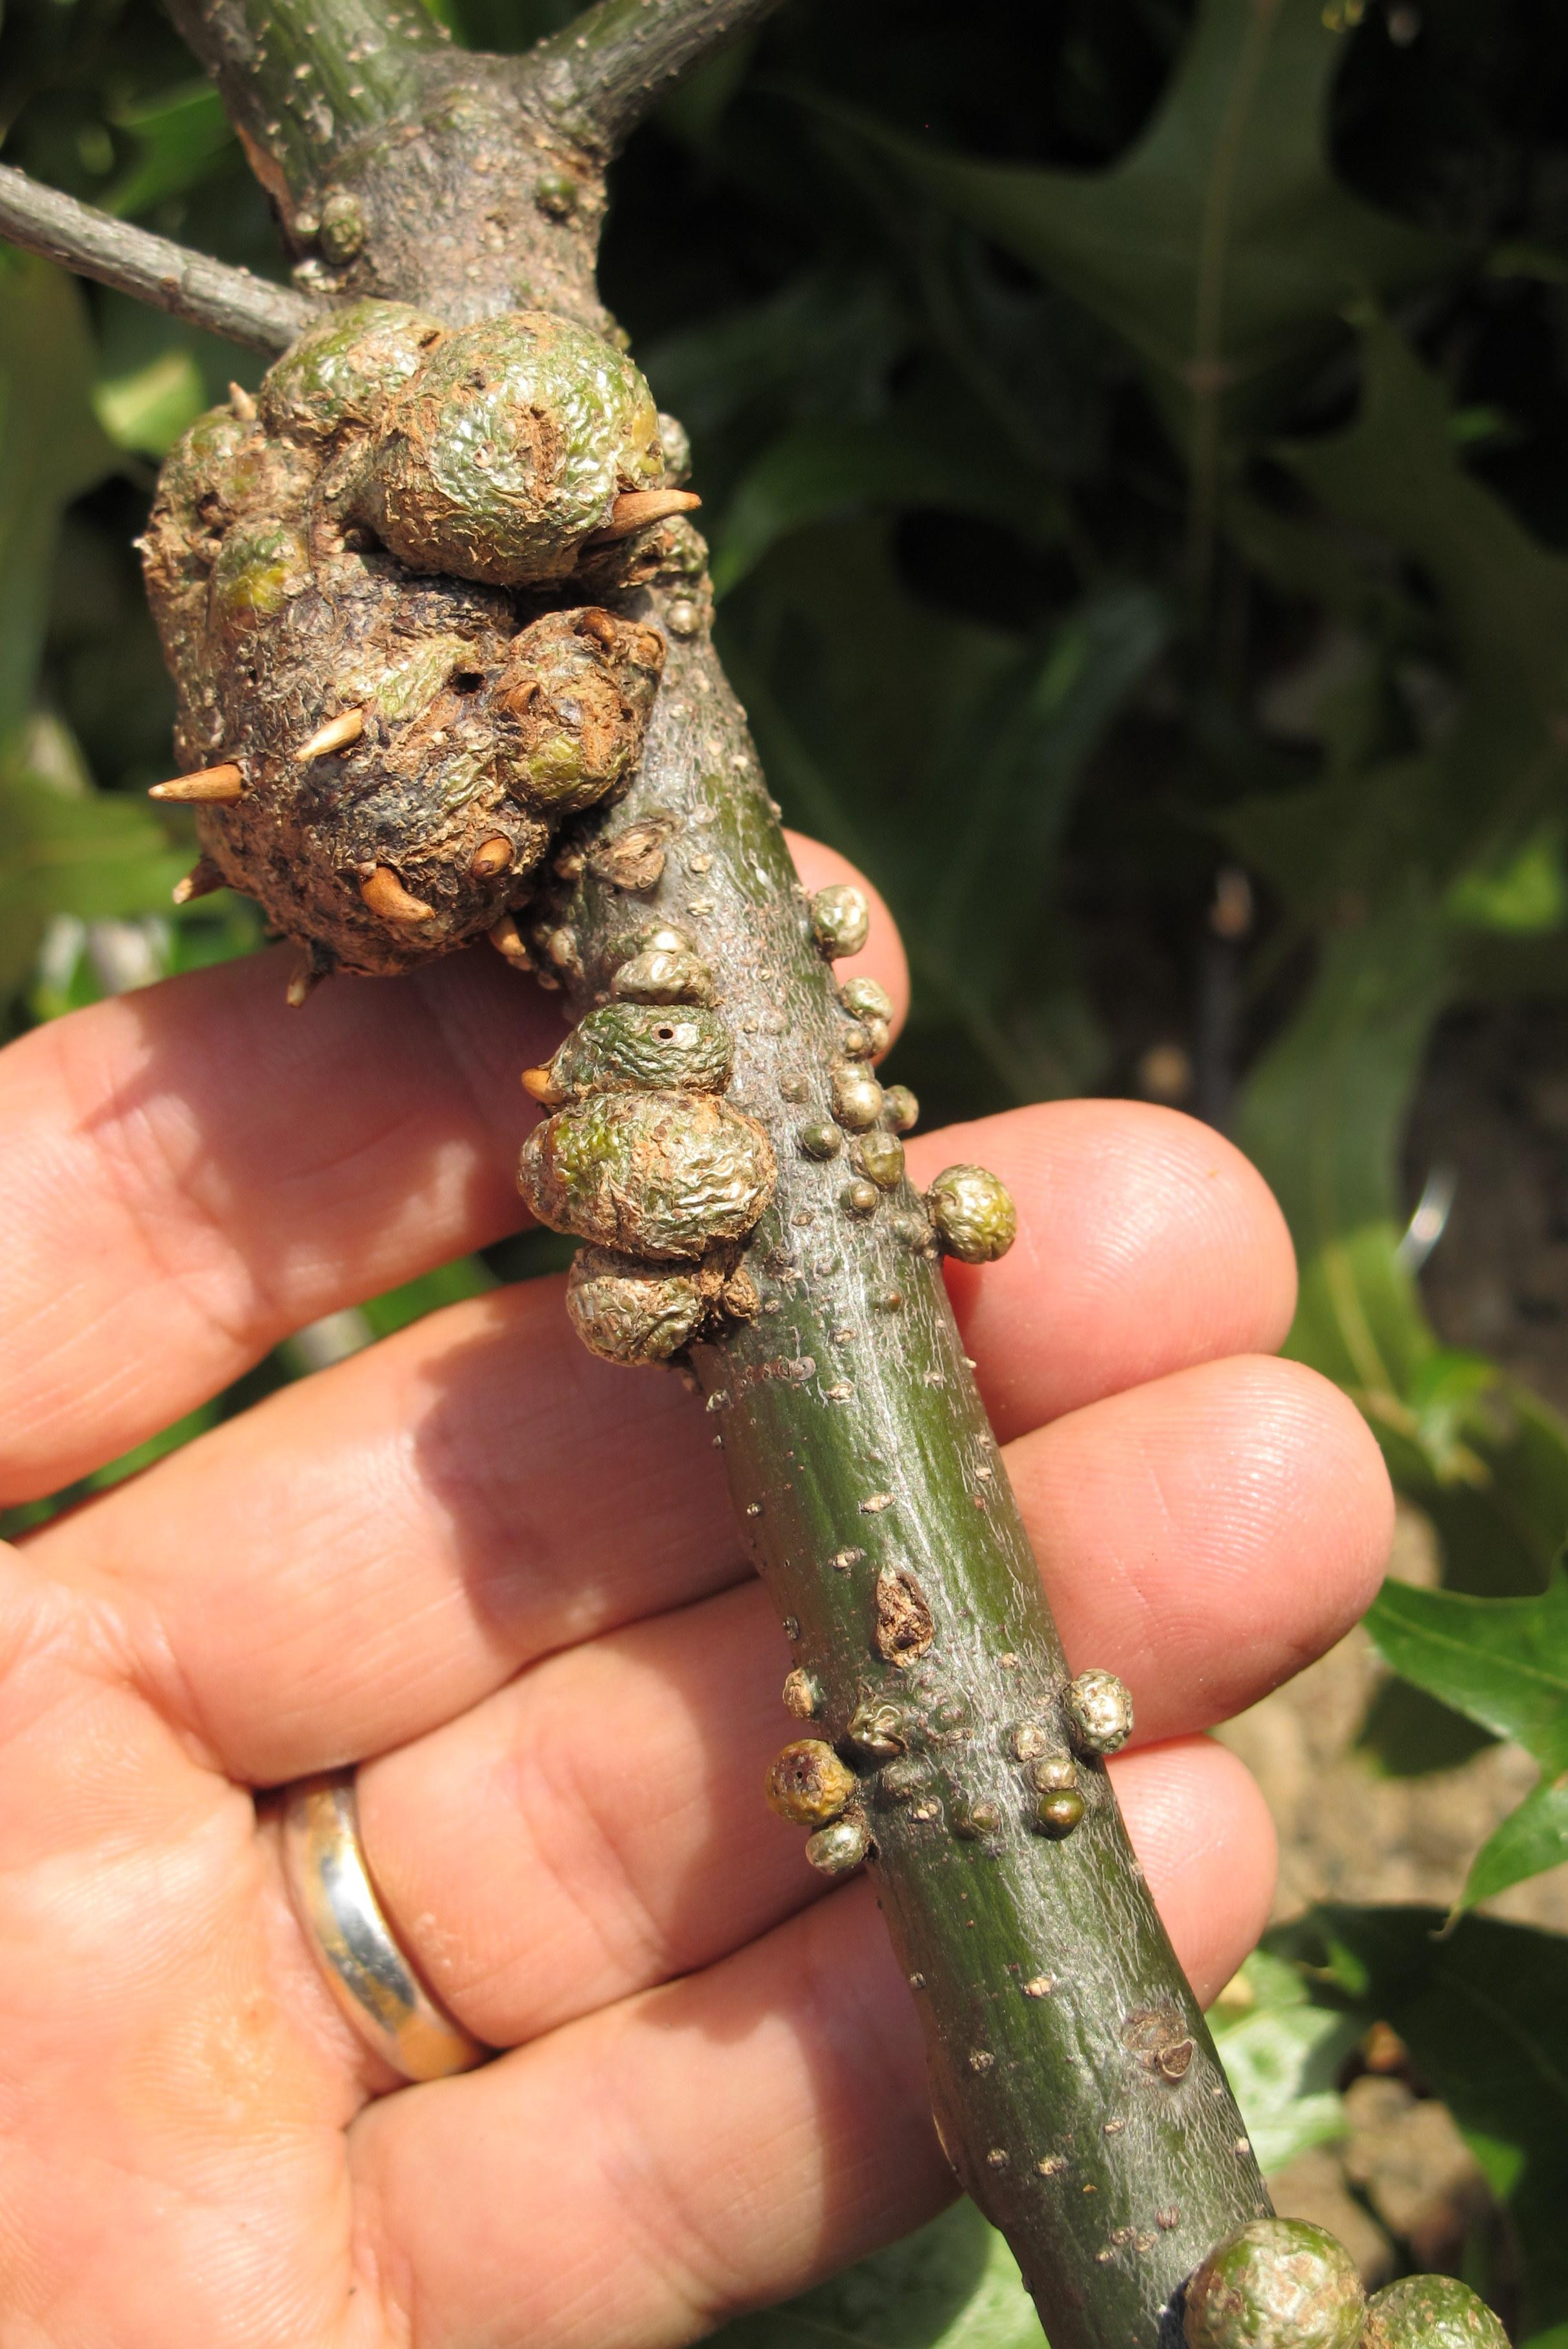kap: (145, 301, 698, 984), (520, 903, 779, 1365), (767, 1565, 935, 1873), (786, 980, 915, 1218), (1013, 1672, 1131, 1838), (915, 1164, 1015, 1262), (807, 887, 868, 968), (784, 1666, 828, 1731)
